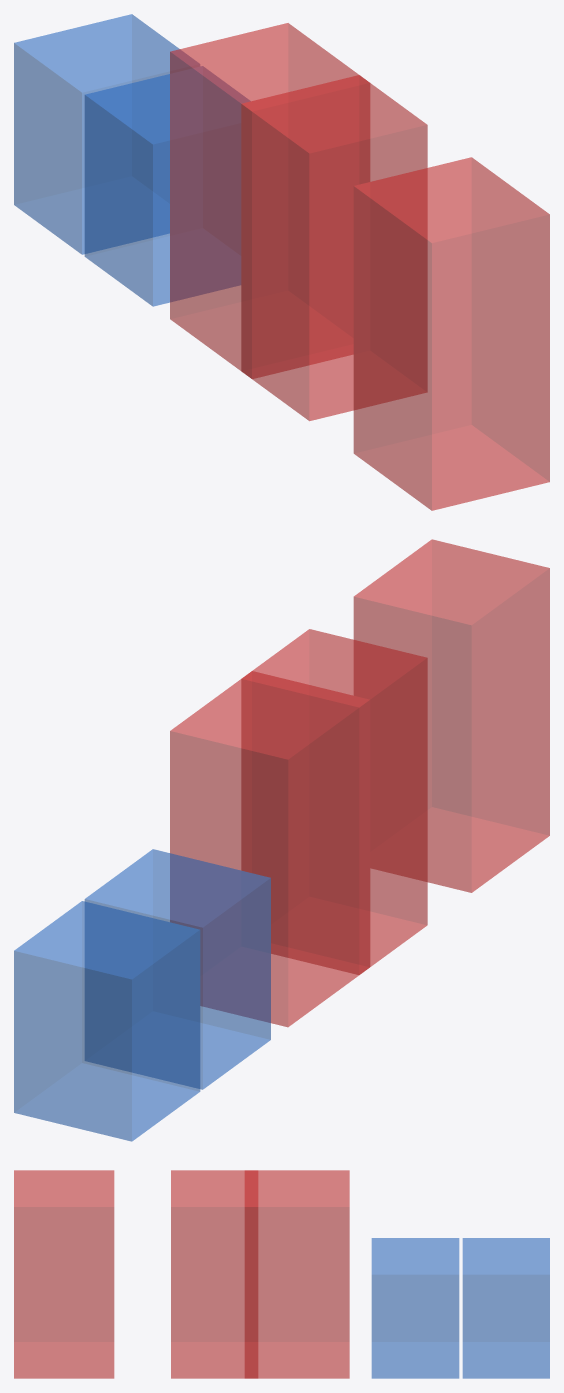
Rendered from home_12_zones.obj.
3 renders of one model, top to bottom at view 1: azimuth 30°, elevation 25°; view 2: azimuth 150°, elevation 25°; view 3: azimuth 270°, elevation 25°, orthographic. The views are drawn at different scales.
Visible parts, largest first — view 1: meter_panel_working_space, inverter_vlld_wall_space, base_hub_wall_space, base_core_2_footprint, base_core_1_footprint; view 2: meter_panel_working_space, inverter_vlld_wall_space, base_hub_wall_space, base_core_2_footprint, base_core_1_footprint; view 3: inverter_vlld_wall_space, meter_panel_working_space, base_hub_wall_space, base_core_1_footprint, base_core_2_footprint.
Part boxes in pixels (x1,y1,x2,y2): meter_panel_working_space: (353,157,549,510); inverter_vlld_wall_space: (170,23,369,378); base_hub_wall_space: (241,75,427,420); base_core_2_footprint: (14,14,199,254); base_core_1_footprint: (84,66,249,306); meter_panel_working_space: (353,539,549,892); inverter_vlld_wall_space: (170,671,370,1027); base_hub_wall_space: (241,629,427,974); base_core_2_footprint: (14,901,200,1141); base_core_1_footprint: (84,849,270,1089); inverter_vlld_wall_space: (244,1170,349,1378); meter_panel_working_space: (14,1170,114,1378); base_hub_wall_space: (171,1170,258,1378); base_core_1_footprint: (371,1238,459,1378); base_core_2_footprint: (462,1238,549,1378).
Size of the model in its own units: 0.9144 by 1.98 by 5.61.
